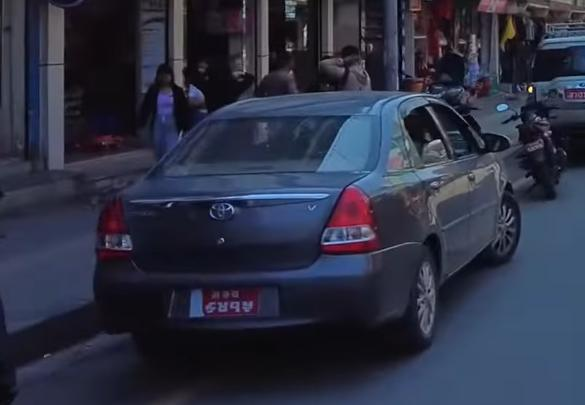SUV: (512, 20, 585, 140)
bike: (496, 99, 568, 206)
car: (95, 89, 526, 355)
